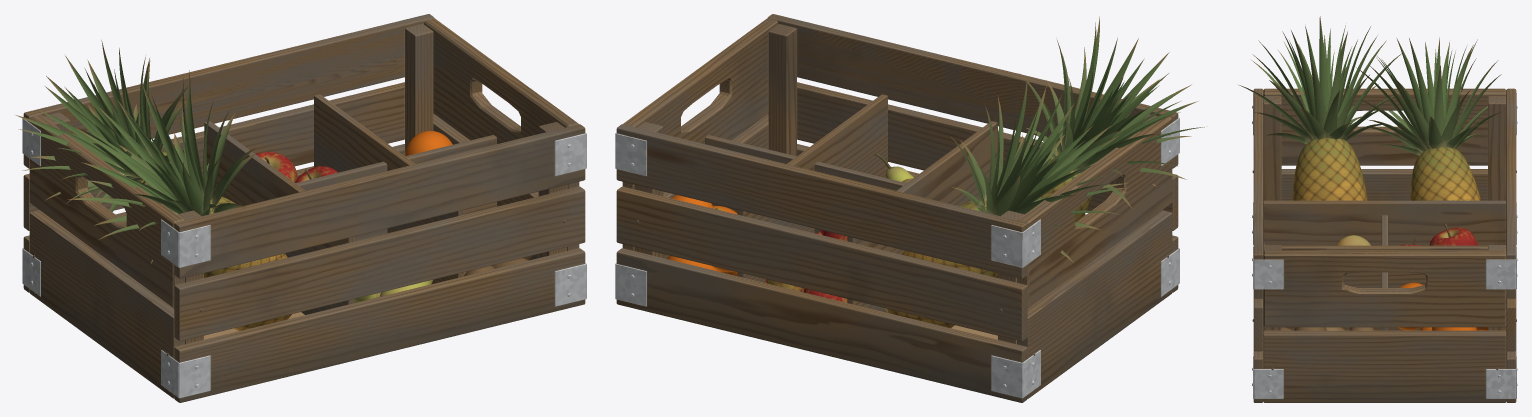
Rendered from fruit-crate.glb.
3 renders of one model, left to right at view 1: azimuth 30°, elevation 25°; view 2: azimuth 150°, elevation 25°; view 3: azimuth 270°, elevation 25°, orthographic. The views are drawn at different scales.
Visible parts, largest first — view 1: SM_WoodenCrate_Body, SM_WoodenCrate_Dividers, Fruit_Pineapple_01, Fruit_Pineapple_02, Fruit_Orange_04, Fruit_Apple_04; view 2: SM_WoodenCrate_Body, SM_WoodenCrate_Dividers, Fruit_Pineapple_02, Fruit_Pineapple_01; view 3: SM_WoodenCrate_Body, SM_WoodenCrate_Dividers, Fruit_Pineapple_01, Fruit_Pineapple_02, Fruit_Apple_04, Fruit_Pear_05.
Part boxes in pixels (<box>): SM_WoodenCrate_Body: <box>22,14,586,402</box>; SM_WoodenCrate_Dividers: <box>204,94,496,314</box>; Fruit_Pineapple_01: <box>67,70,291,330</box>; Fruit_Pineapple_02: <box>15,40,215,211</box>; Fruit_Orange_04: <box>405,130,452,156</box>; Fruit_Apple_04: <box>256,152,297,182</box>; SM_WoodenCrate_Body: <box>615,14,1179,402</box>; SM_WoodenCrate_Dividers: <box>705,94,997,312</box>; Fruit_Pineapple_02: <box>885,77,1129,328</box>; Fruit_Pineapple_01: <box>997,16,1204,277</box>; SM_WoodenCrate_Body: <box>1252,88,1517,402</box>; SM_WoodenCrate_Dividers: <box>1263,200,1506,330</box>; Fruit_Pineapple_01: <box>1239,16,1401,200</box>; Fruit_Pineapple_02: <box>1356,37,1501,200</box>; Fruit_Apple_04: <box>1429,224,1478,245</box>; Fruit_Pear_05: <box>1336,235,1370,245</box>.
Size of what is drawn, in the model's own units: 0.686 by 0.4046 by 0.4285.
7 materials, 7 textured.
